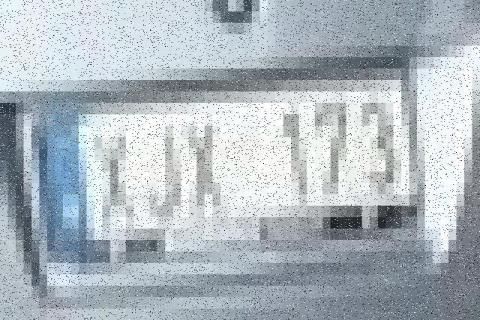LicensePlate: (17, 59, 447, 263)
